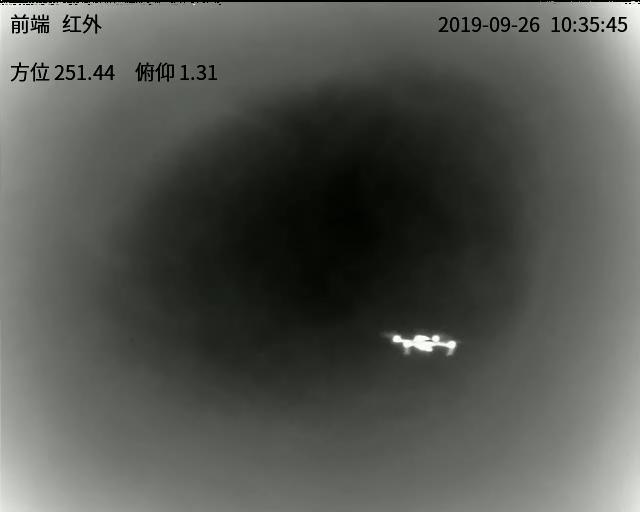uav: (385, 327, 464, 358)
